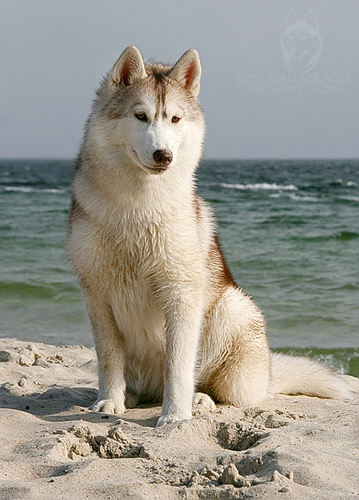dog: (66, 43, 351, 426)
